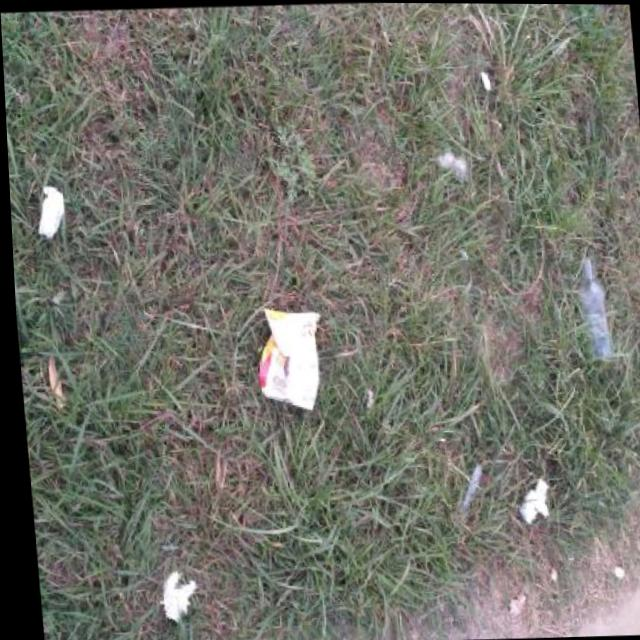glass: (575, 256, 613, 361)
other: (158, 568, 200, 620), (32, 182, 68, 237)
plastic: (252, 301, 329, 412)
